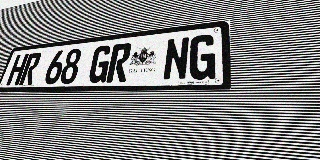6: (43, 50, 68, 84)
8: (58, 48, 84, 84)
G: (188, 34, 216, 80), (87, 45, 113, 83)
H: (6, 54, 29, 86)
N: (162, 36, 190, 81)
R: (106, 43, 132, 83), (19, 52, 42, 85)
